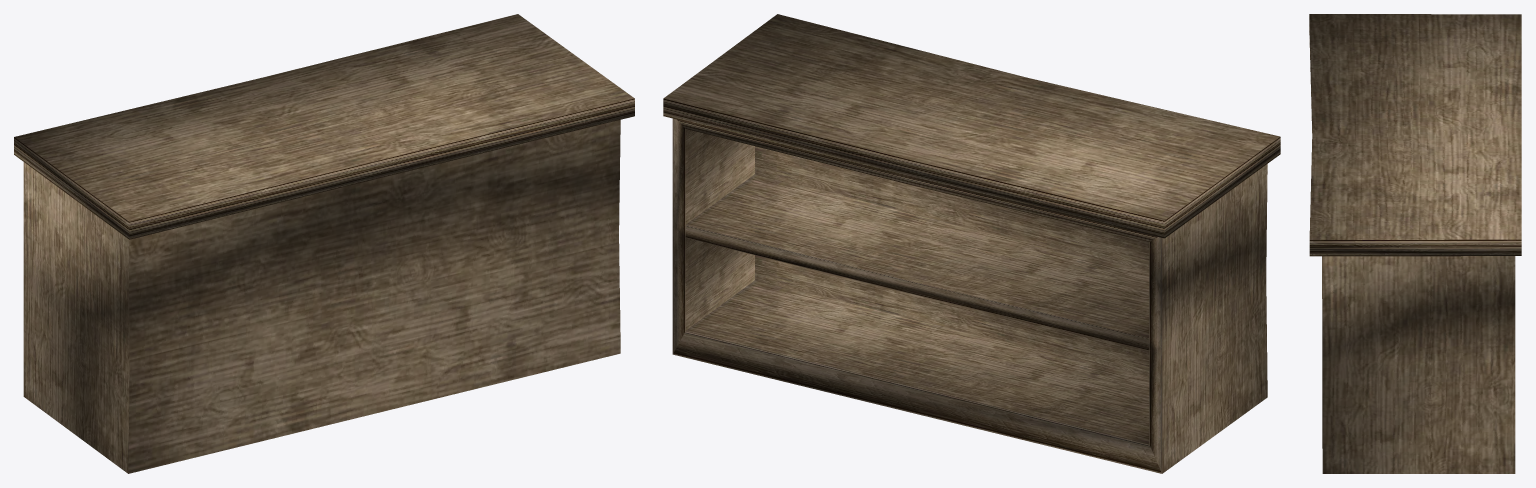
File: GS_VOB_COUNTER_YELLOW_01_KOZA.glb
3 renders of one model, left to right at view 1: azimuth 30°, elevation 25°; view 2: azimuth 150°, elevation 25°; view 3: azimuth 270°, elevation 25°, orthographic. The views are drawn at different scales.
Visible parts, largest first — view 1: Mesh; view 2: Mesh; view 3: Mesh.
Boxes of the visible parts, left/top/right/bottom form: Mesh: left=14, top=14, right=634, bottom=473; Mesh: left=663, top=14, right=1280, bottom=473; Mesh: left=1309, top=14, right=1521, bottom=473.
Size of the model in its own units: 2.08 by 1.02 by 0.8243.
Materials: 2 (2 with a texture image).
